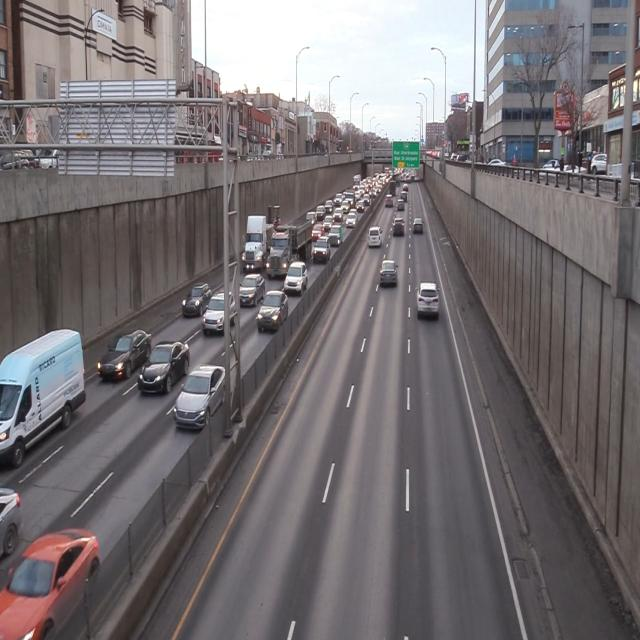Car: (0, 325, 83, 462), (0, 526, 96, 640), (176, 366, 233, 429), (98, 328, 154, 383), (139, 339, 193, 396), (266, 216, 312, 278), (242, 205, 283, 271), (203, 290, 238, 337), (258, 290, 288, 335), (182, 282, 212, 319), (414, 280, 440, 320), (239, 273, 264, 309), (285, 262, 308, 296), (380, 260, 397, 287), (314, 236, 330, 264), (368, 225, 382, 250), (392, 216, 406, 236), (413, 216, 424, 235)
